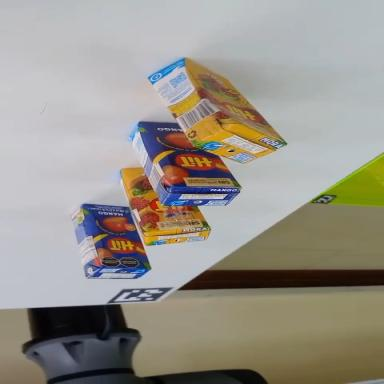HIT-MANGO: (108, 105, 249, 237), (62, 189, 153, 294)
HIT-MORA: (138, 38, 287, 191), (120, 158, 212, 250)
cara_F: (130, 96, 243, 220), (182, 47, 286, 158), (80, 190, 151, 284), (122, 161, 209, 235)
